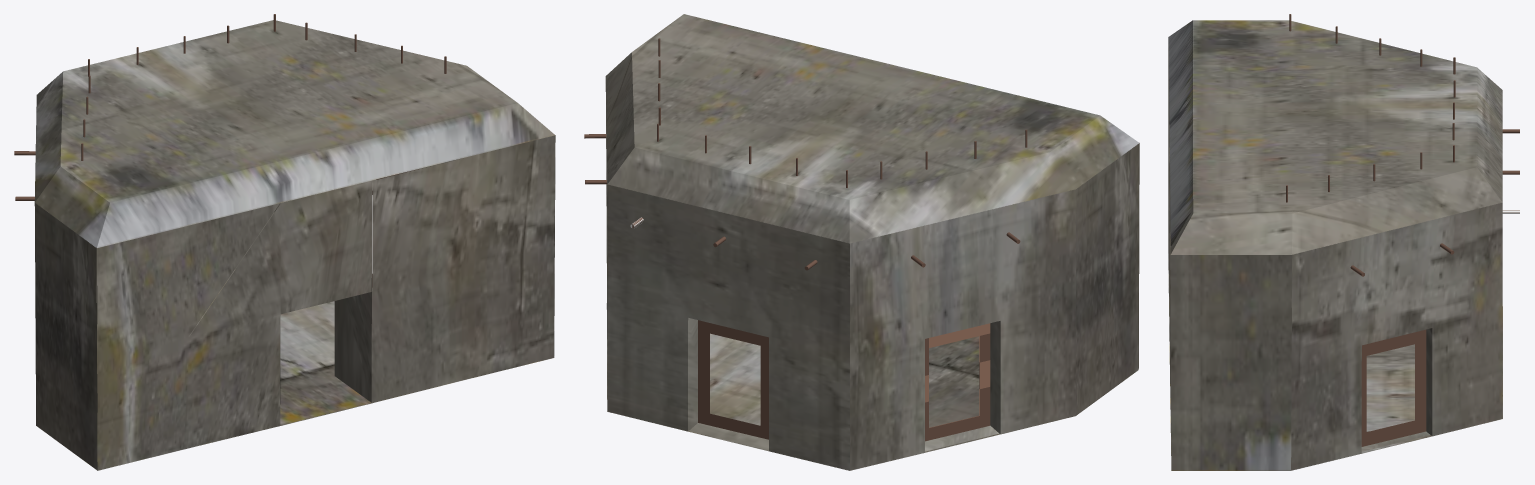
The model's file is bw-bunker.zfix-v14.lod0.glb.
3 views of the same model, side by side, from view 1: azimuth 30°, elevation 25°; view 2: azimuth 150°, elevation 25°; view 3: azimuth 270°, elevation 25° (orthographic). The views are drawn at different scales.
Visible parts, largest first — view 1: Cube.001_0, pin1_0; view 2: Cube.001_0, pin1_0, Cylinder.016_0; view 3: Cube.001_0, pin1_0.
Boxes of the visible parts, <box> form: Cube.001_0: <box>34,20,555,470</box>; pin1_0: <box>14,14,446,287</box>; Cube.001_0: <box>605,14,1139,470</box>; pin1_0: <box>584,38,1027,441</box>; Cylinder.016_0: <box>630,217,990,427</box>; Cube.001_0: <box>1168,20,1502,470</box>; pin1_0: <box>1286,14,1519,446</box>.
Bounding box in the file's own units: 9 × 5.05 × 6.15.
3 materials, 2 textured.
